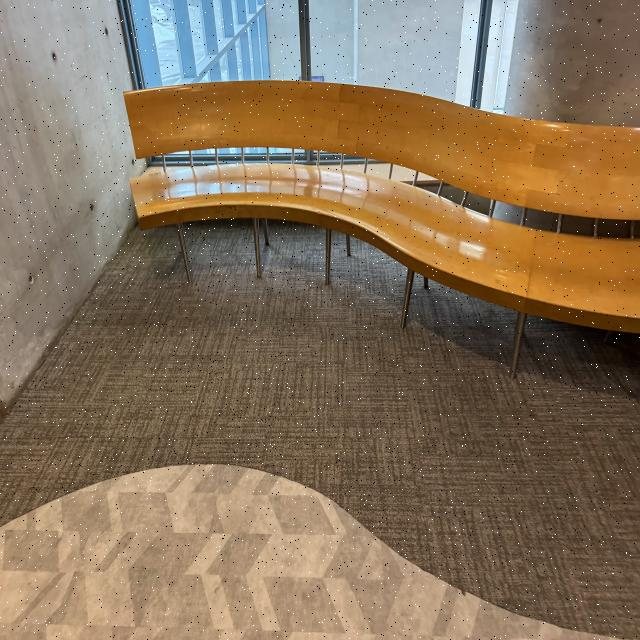Bench: (123, 69, 636, 339)
